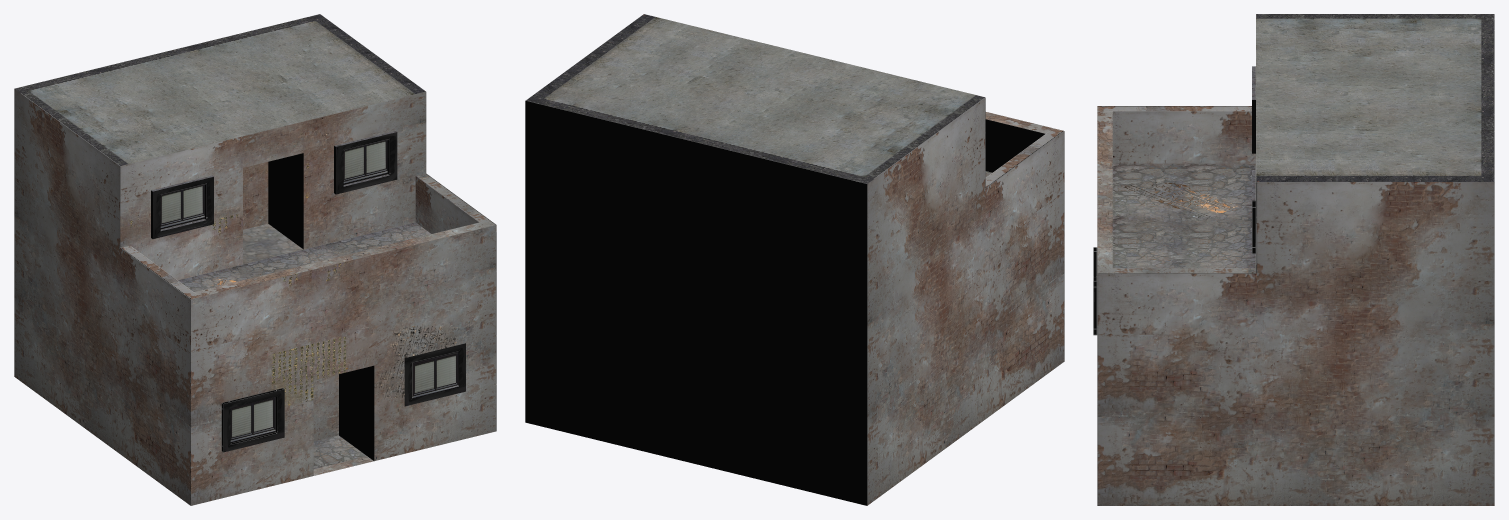
Rendered from house2Model.obj.
The picture shows the model from 3 angles, left to right: view 1: azimuth 30°, elevation 25°; view 2: azimuth 150°, elevation 25°; view 3: azimuth 270°, elevation 25°; orthographic projection. The views are drawn at different scales.
Visible parts, largest first — view 1: houseModel; view 2: houseModel; view 3: houseModel.
Boxes of the visible parts, x1,y1,x2,y2 form: houseModel: (14,14,496,505); houseModel: (525,14,1064,505); houseModel: (1093,14,1494,505).
Bounding box in the file's own units: 10 × 9 × 10.1.
